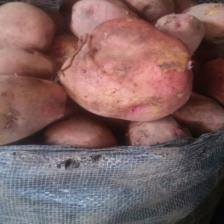Defected potato: (56, 17, 196, 125)
